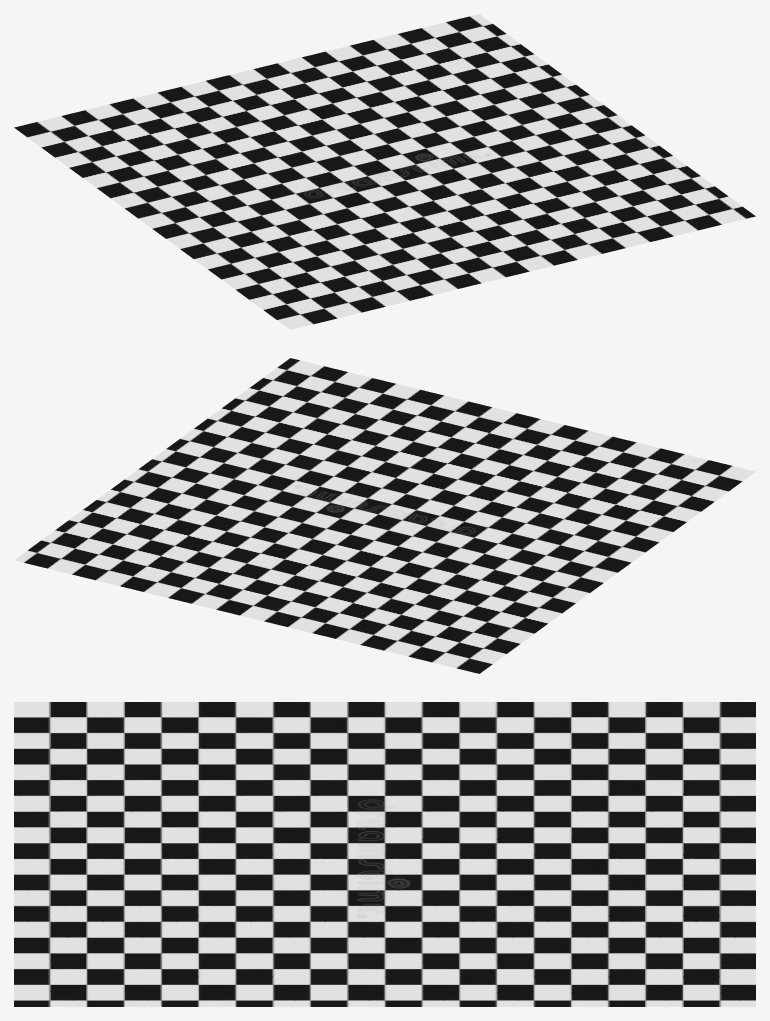
The model's file is Cocina.fbx.
3 renders of one model, top to bottom at view 1: azimuth 30°, elevation 25°; view 2: azimuth 150°, elevation 25°; view 3: azimuth 270°, elevation 25°, orthographic. The views are drawn at different scales.
Parts seen in each view (by area): view 1: polySurface94; view 2: polySurface94; view 3: polySurface94.
Part boxes in pixels (x1,y1,x2,y2): polySurface94: (14, 14, 755, 329); polySurface94: (14, 358, 755, 673); polySurface94: (14, 702, 755, 1006).
Bounding box in the file's own units: 19.97 × 0 × 20.54.
Materials: 1 (1 with a texture image).
